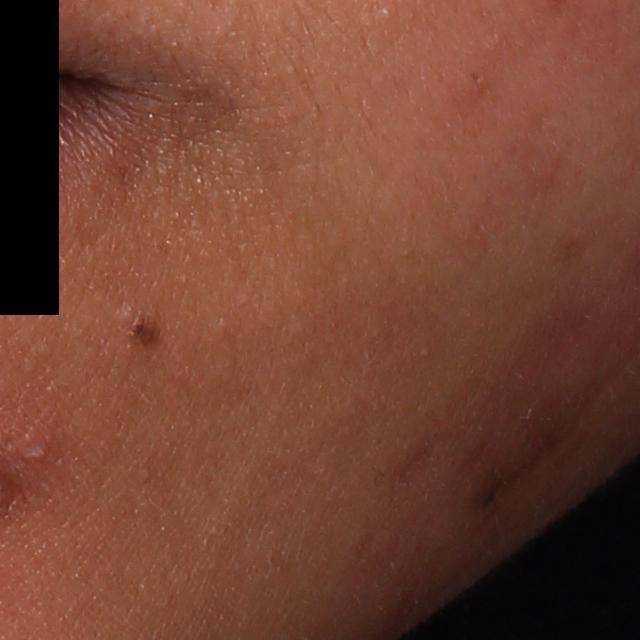comedo: (463, 66, 490, 97)
nevus: (125, 317, 161, 348)
papule: (18, 435, 46, 466)
